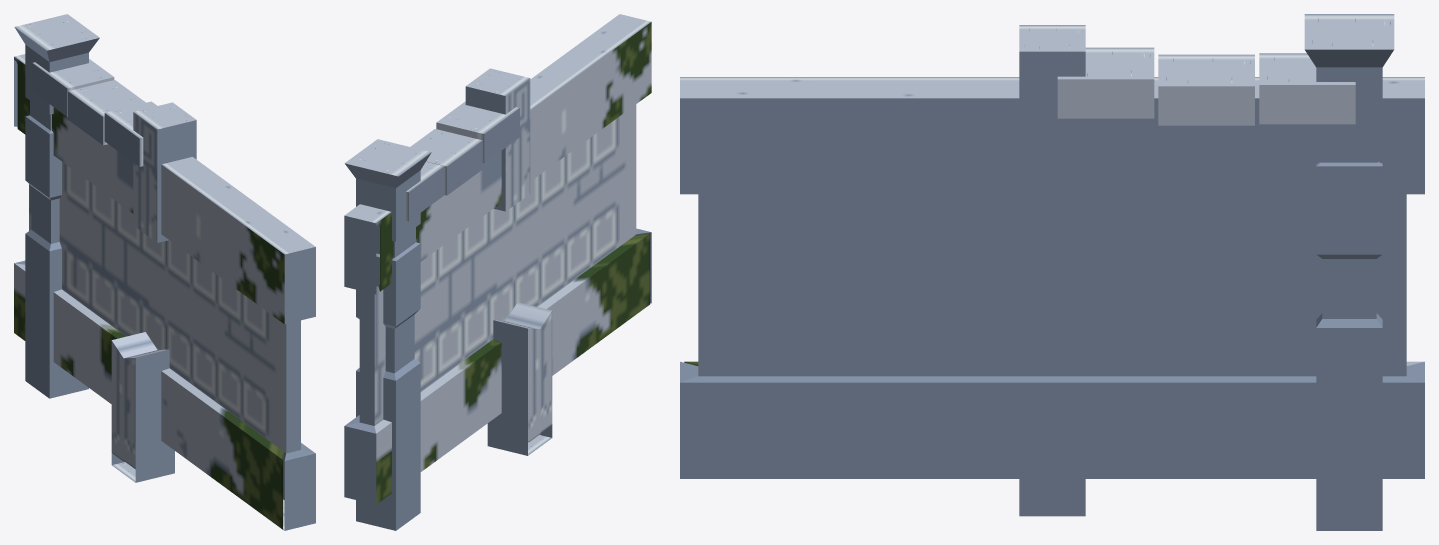
File: ParedeDeMarmore.fbx
3 views of the same model, side by side, from view 1: azimuth 30°, elevation 25°; view 2: azimuth 150°, elevation 25°; view 3: azimuth 270°, elevation 25° (orthographic). The views are drawn at different scales.
Visible parts, largest first — view 1: ParedeDeMarmore; view 2: ParedeDeMarmore; view 3: ParedeDeMarmore.
Part boxes in pixels (<box>): ParedeDeMarmore: <box>14,14,315,530</box>; ParedeDeMarmore: <box>344,14,651,530</box>; ParedeDeMarmore: <box>680,14,1424,530</box>.
Size of the model in its own units: 165 by 1135 by 817.
